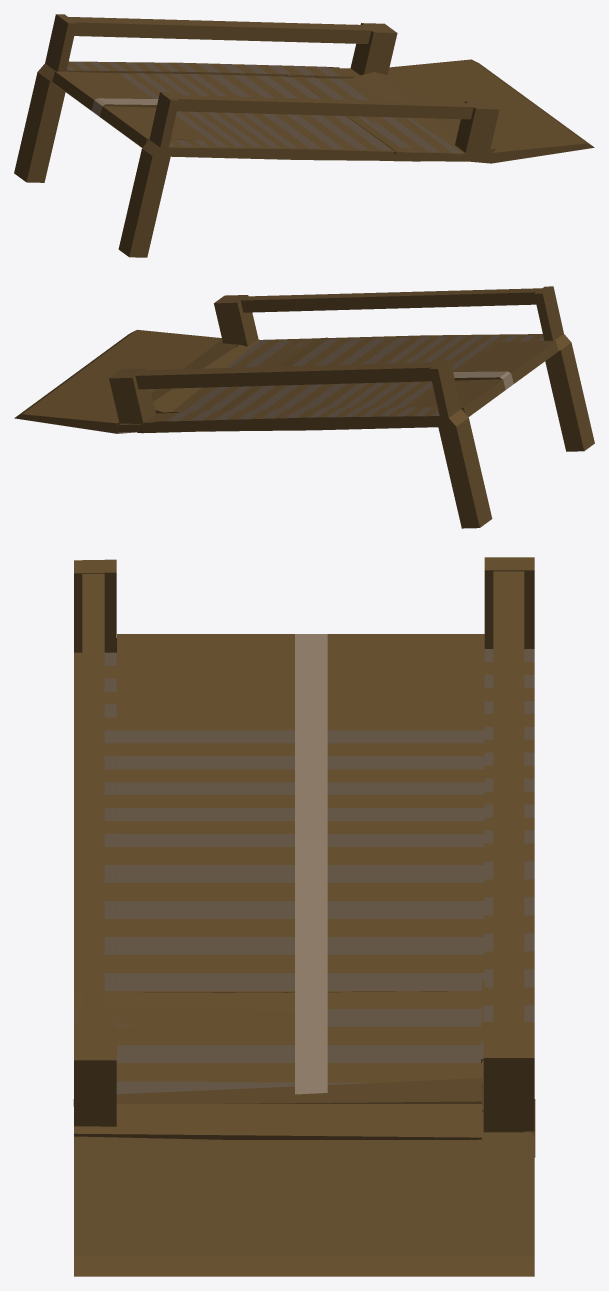
Rendered from ramp.fbx.
The picture shows the model from 3 angles, top to bottom: view 1: azimuth 30°, elevation 25°; view 2: azimuth 150°, elevation 25°; view 3: azimuth 270°, elevation 25°; orthographic projection. The views are drawn at different scales.
Parts seen in each view (by area): view 1: Плоскость; view 2: Плоскость; view 3: Плоскость.
Part boxes in pixels (<box>): Плоскость: <box>14,14,594,257</box>; Плоскость: <box>14,286,594,528</box>; Плоскость: <box>73,557,535,1276</box>.
Bounding box in the file's own units: 476 × 150 × 204.
